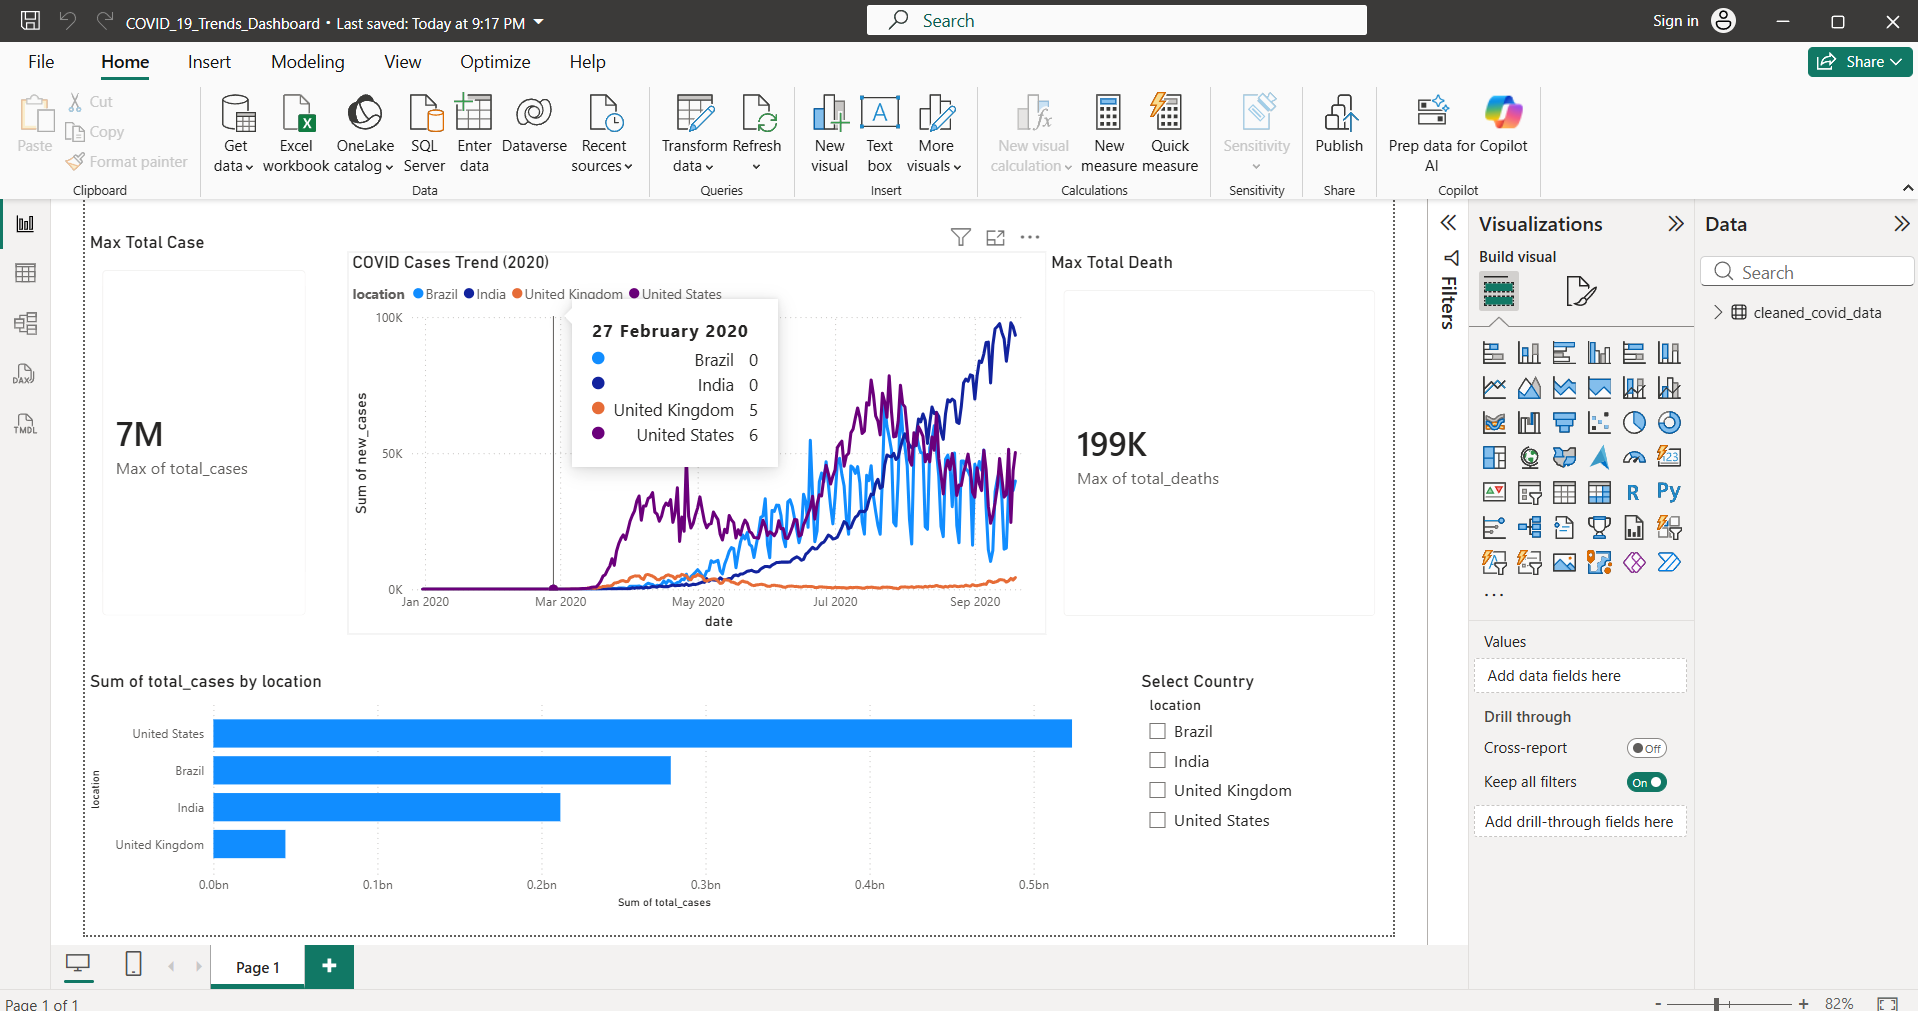

This screenshot's page, from the dashboard's own definition file:
{"tool":"powerbi","page":{"name":"Page 1","canvas":[1280,720],"ordinal":0},"visuals":[{"type":"lineChart","title":"COVID Cases Trend (2020)","fields":{"Y":["Sum(cleaned_covid_data.new_cases)"],"Series":["cleaned_covid_data.location"],"Category":["cleaned_covid_data.date"]},"box":[256.8,51.4,683.6,374.2],"z":0},{"type":"cardVisual","title":"Max Total Case","fields":{"Data":["Max(cleaned_covid_data.total_cases)"]},"box":[0,31.8,233.6,393.8],"z":1000},{"type":"cardVisual","title":"Max Total Death","fields":{"Data":["Max(cleaned_covid_data.total_deaths)"]},"box":[940.4,51.4,339.9,374.2],"z":1001},{"type":"clusteredBarChart","fields":{"Y":["Sum(cleaned_covid_data.total_cases)"],"Category":["cleaned_covid_data.location"]},"box":[0,461,1028.4,238.5],"z":1002},{"type":"slicer","title":"Select Country","fields":{"Values":["cleaned_covid_data.location"]},"box":[1028,461,252,238],"z":1003}]}

Visuals, with their boxes on the page's 1280x720 design canvas (x1, y1, x2, y2). These are canvas units, not pixel positions in the 1918x1011 screenshot, which may show the page scaled, cropped or inside an application window:
"COVID Cases Trend (2020)" lineChart: 257/51/940/426
"Max Total Case" cardVisual: 0/32/234/426
"Max Total Death" cardVisual: 940/51/1280/426
clusteredBarChart - Sum(cleaned_covid_data.total_cases) x cleaned_covid_data.location: 0/461/1028/700
"Select Country" slicer: 1028/461/1280/699
